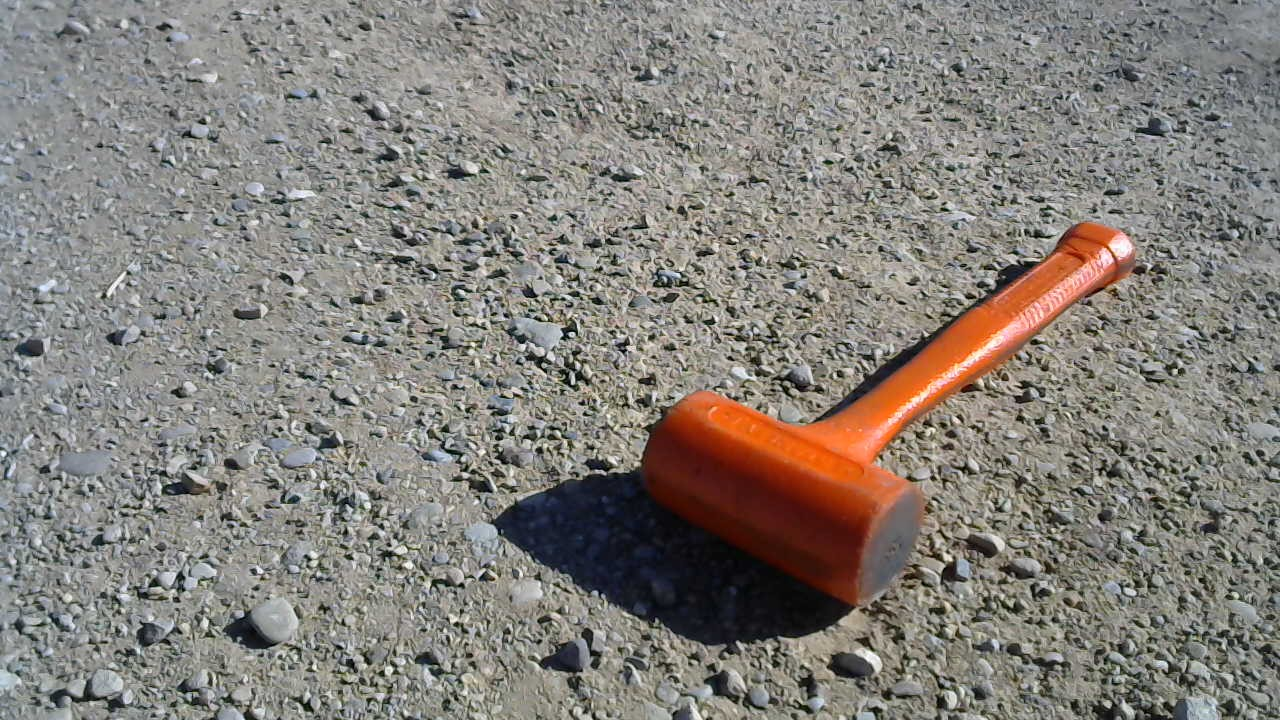hammer: (628, 216, 1144, 619)
